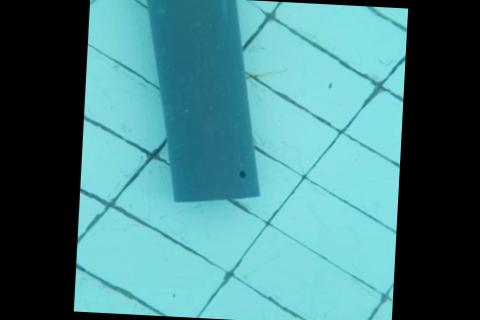kebocoran: (237, 169, 245, 178)
